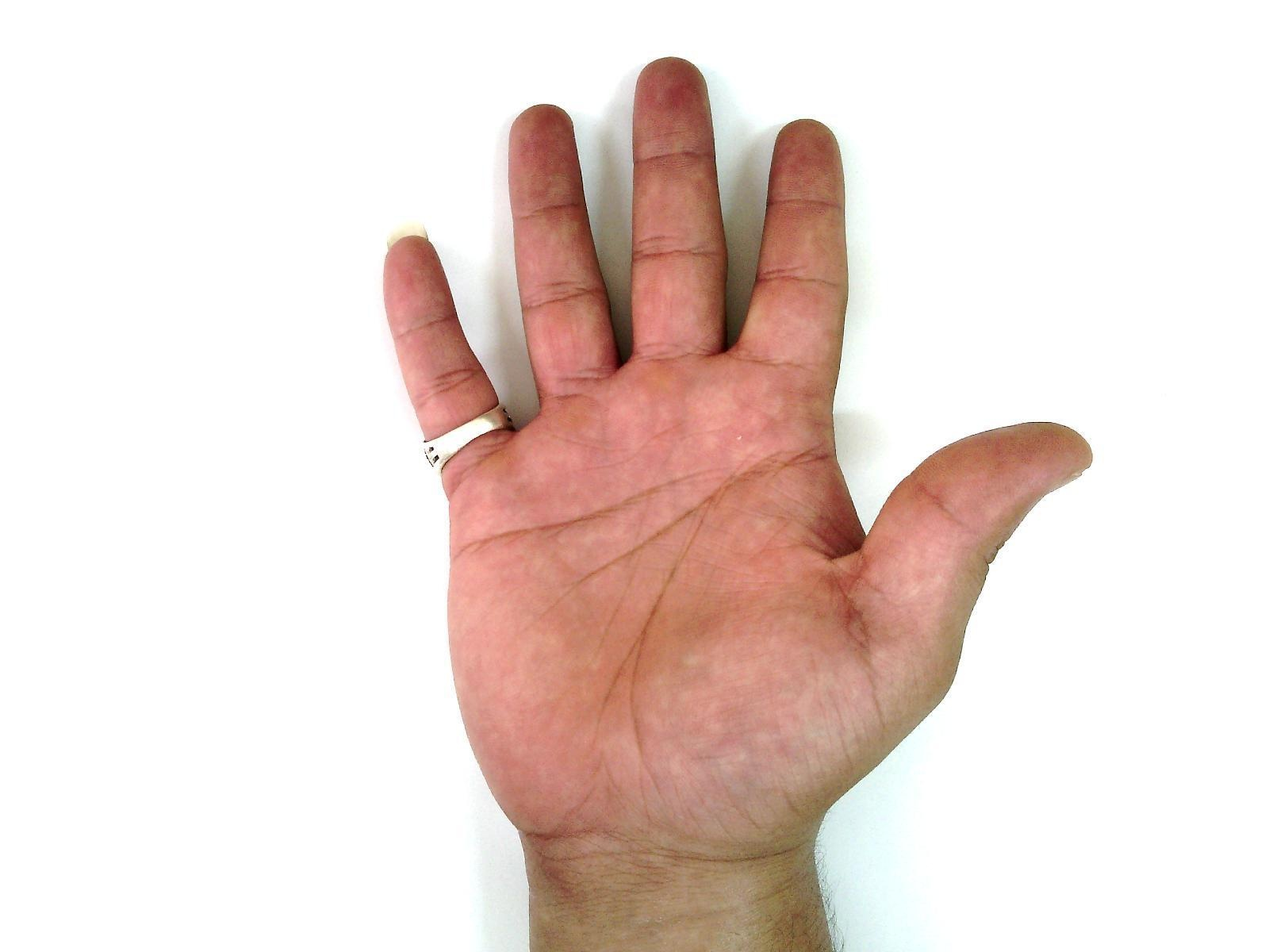open_palm: (379, 56, 1095, 873)
